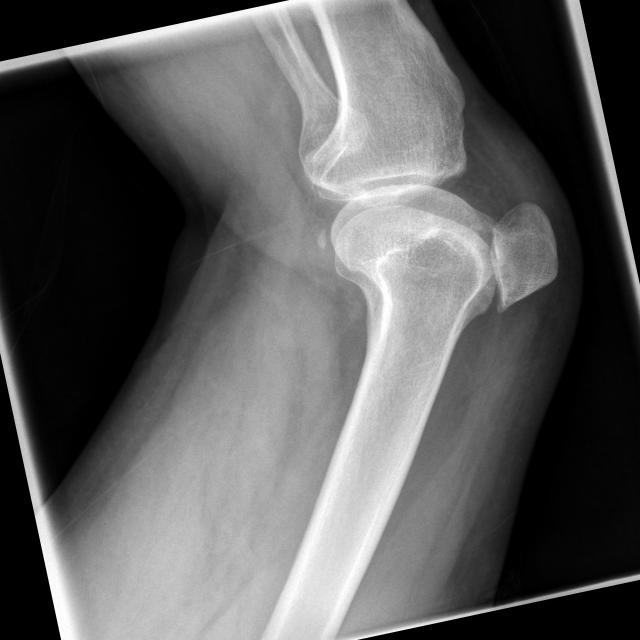Knee: (298, 70, 572, 350)
